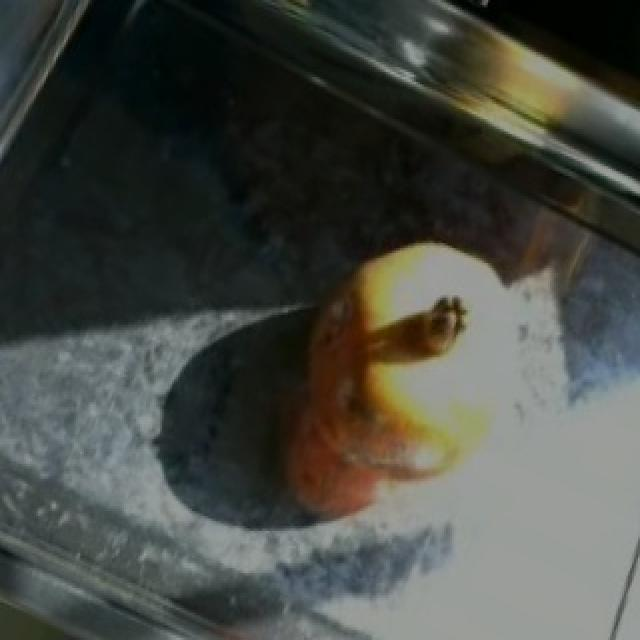fruit: (284, 208, 546, 484)
